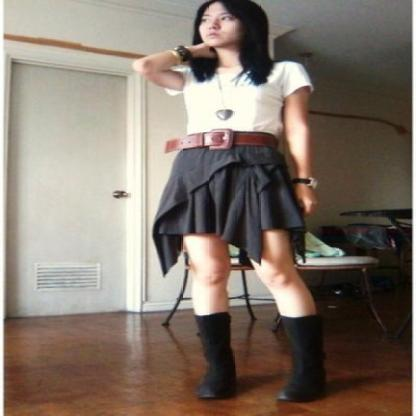shirt: (166, 61, 310, 141)
shoe: (198, 312, 320, 402)
skirt: (153, 142, 303, 273)
